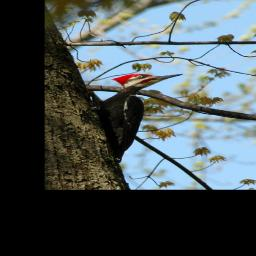Woodpecker: (89, 72, 189, 164)
